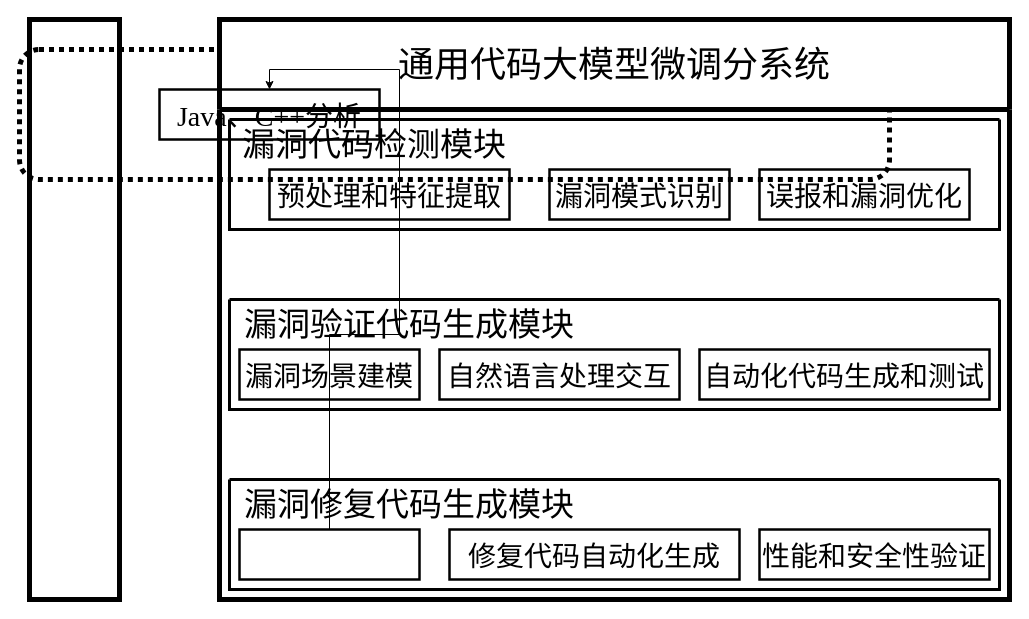
The diagram is 1029 pixels wide and 619 high, and some of its shapes have lost their labels. The box of each missing label's shape, as (x1, y1, x2, y2) in pixels:
修复策略建议: (238, 528, 420, 580)
通用代码大模型分系统: (26, 16, 122, 602)
